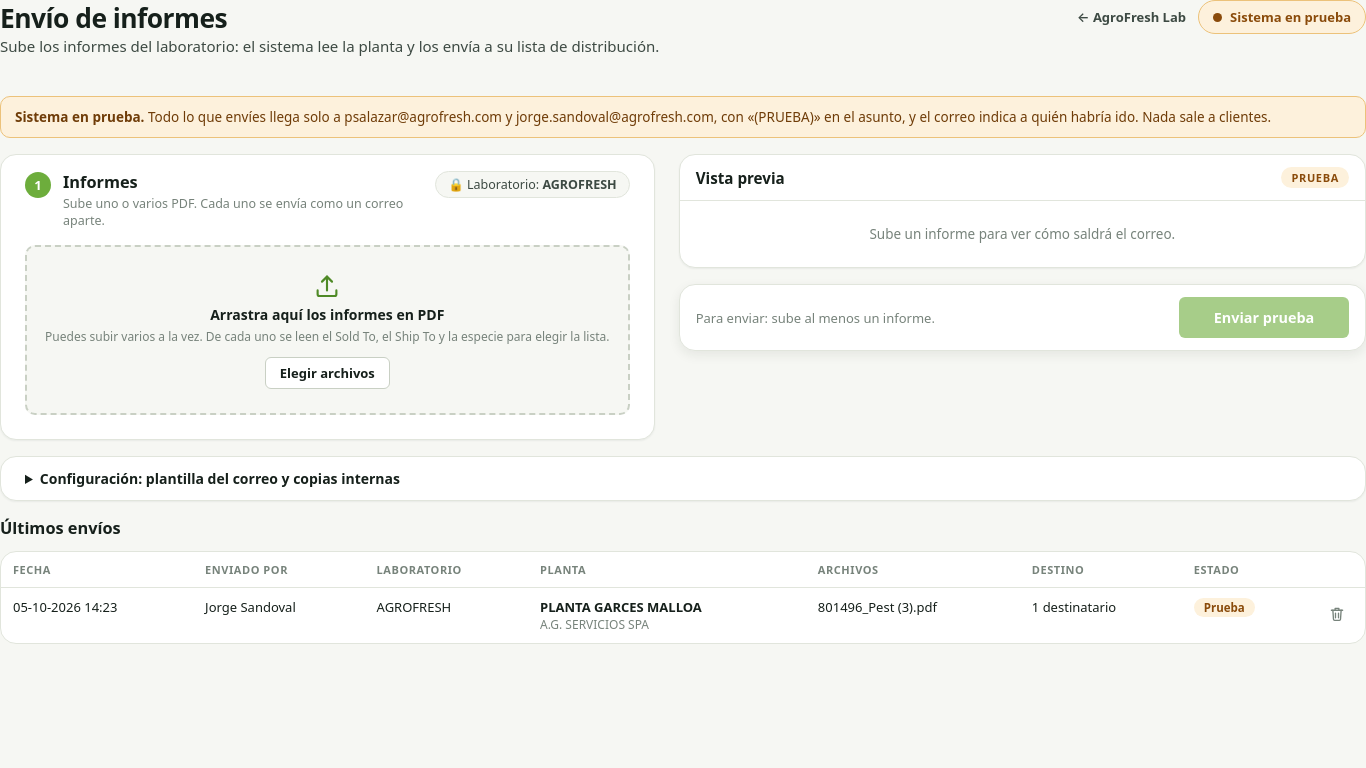
Scenario: EnvioInformesView › eliminar del historial › con una clave incorrecta no se borra nada
The image size is (1366, 768).
Click the button named "Eliminar registro" at (1337, 614), box top-left (1321, 598), bottom-right (1353, 630)
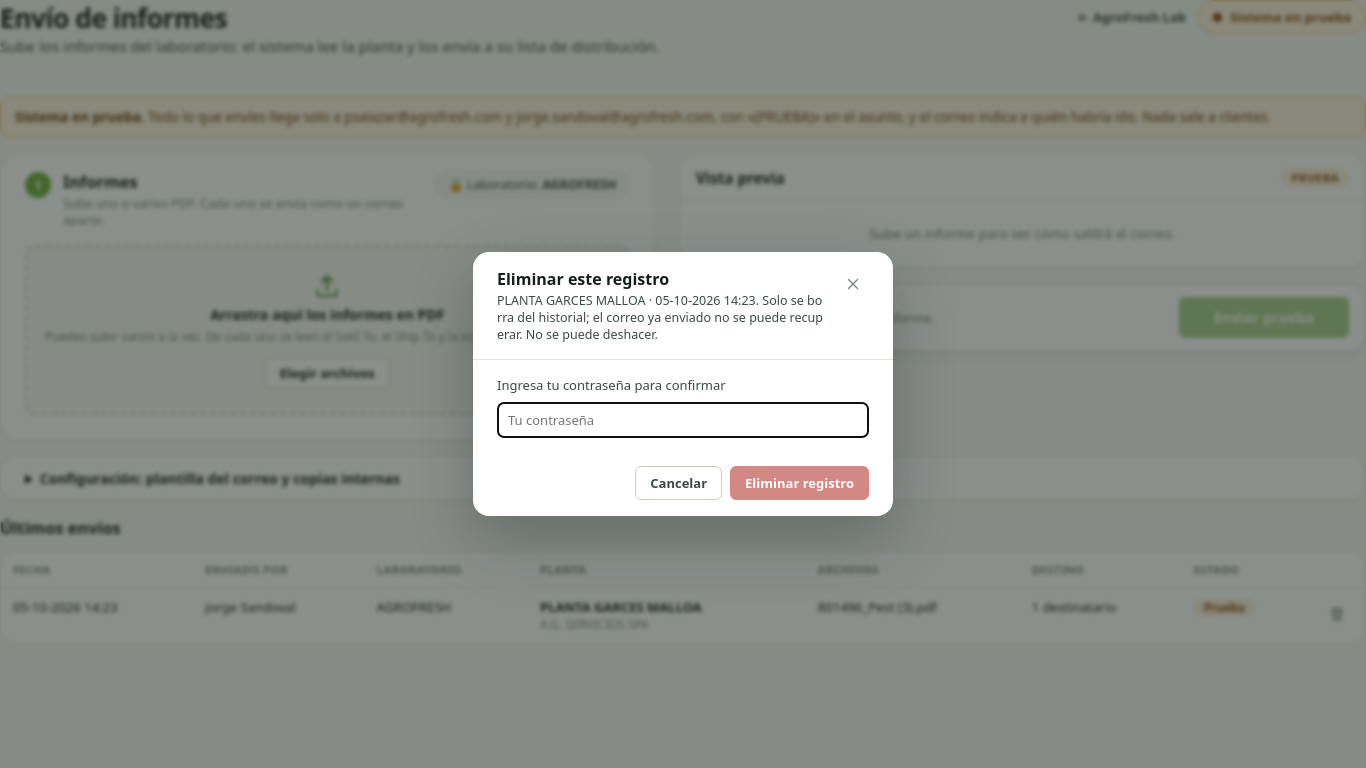
Type "mala" into the password field with placeholder "tu contraseña" at (683, 420), box top-left (497, 402), bottom-right (869, 438)
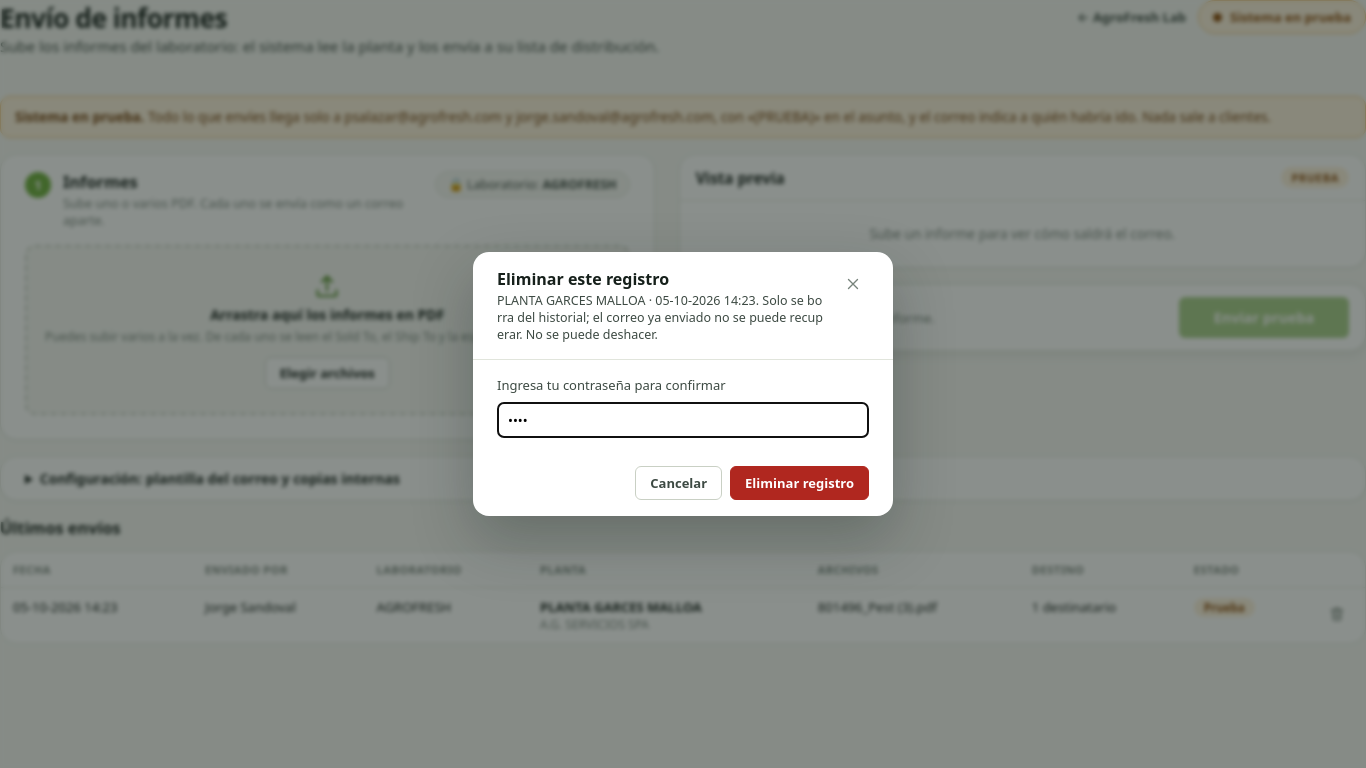
Click the button "Eliminar registro" at (800, 483), box top-left (730, 466), bottom-right (869, 500)
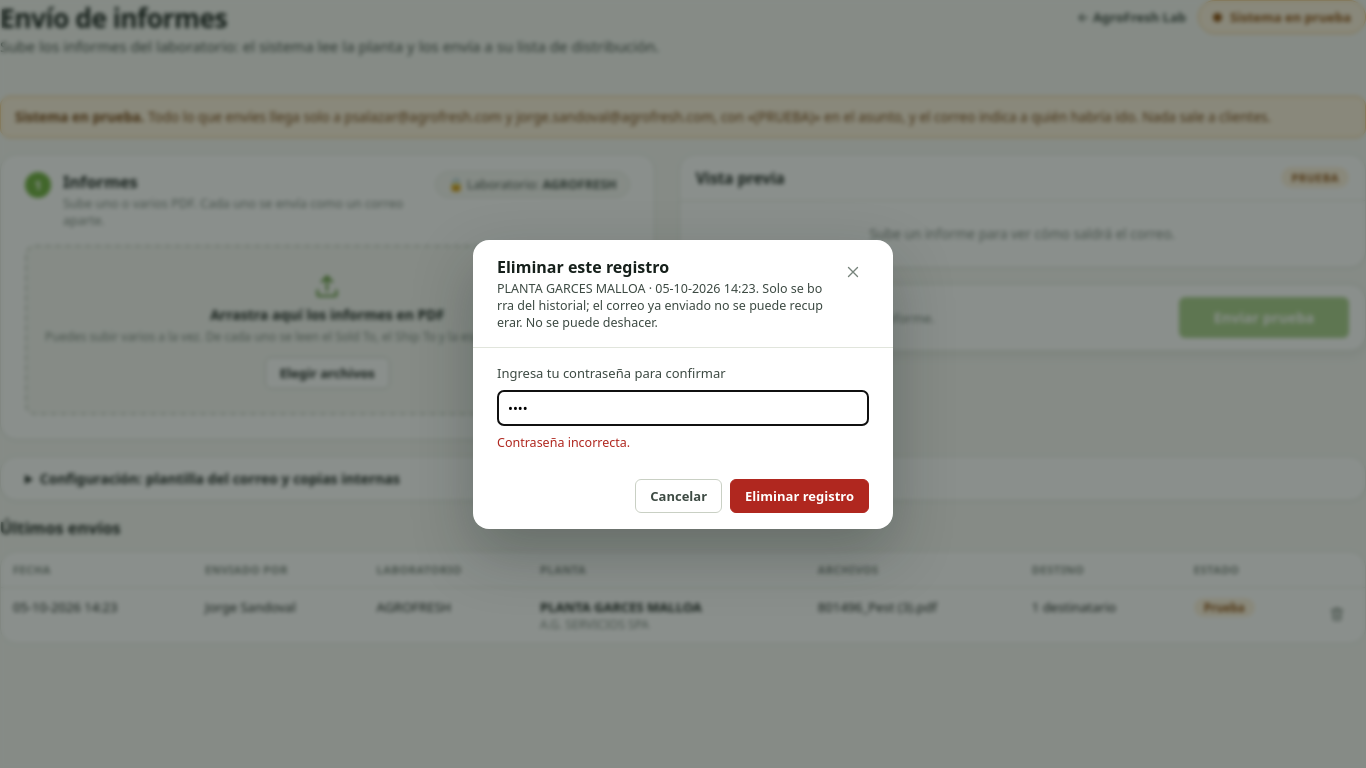
Now the text "Contraseña incorrecta." is shown, box top-left (497, 434), bottom-right (630, 450)
